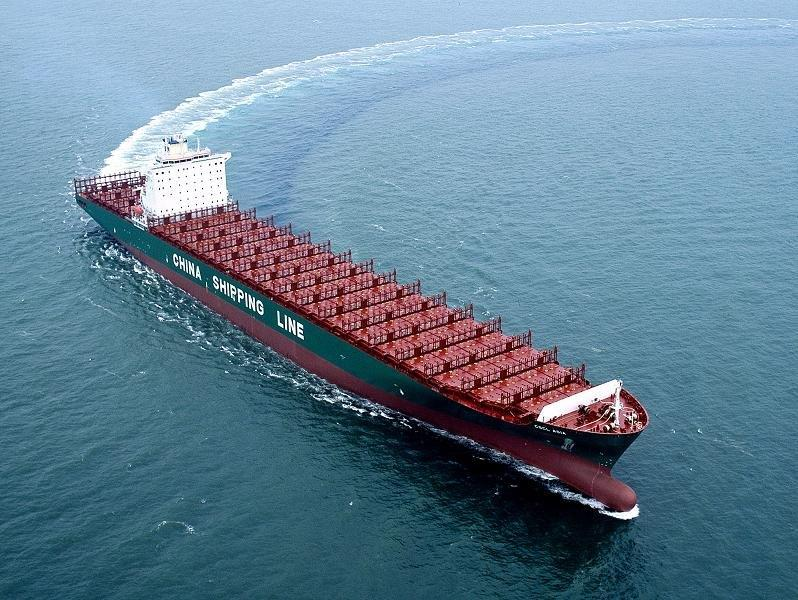Cargoship: (64, 125, 654, 522)
